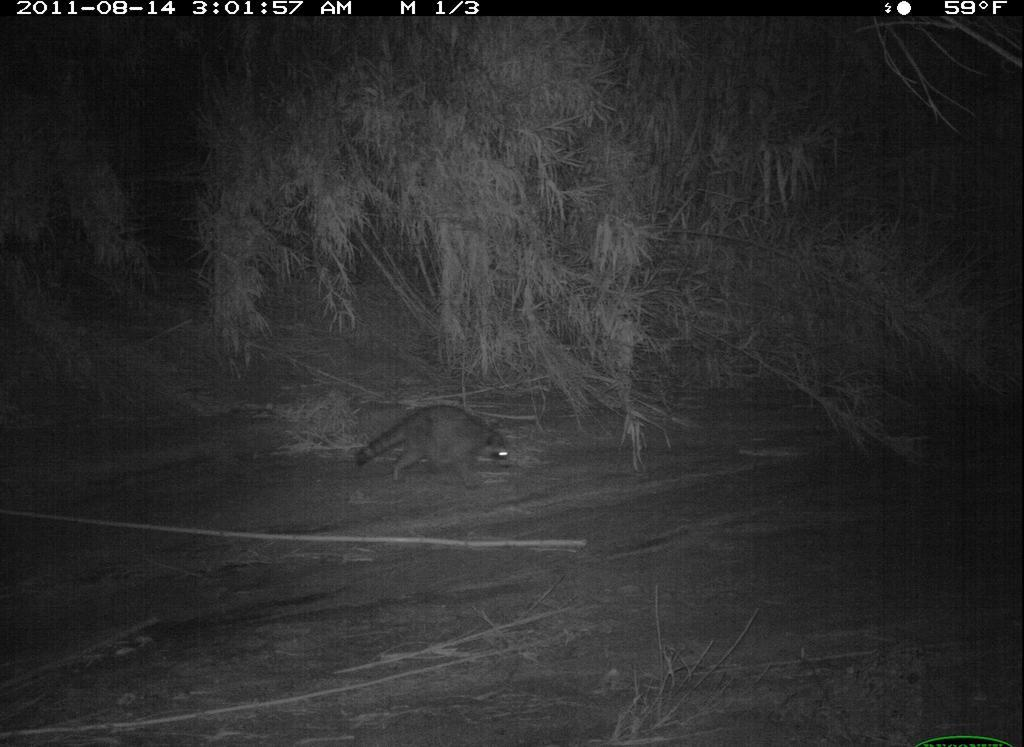raccoon: (353, 397, 521, 488)
